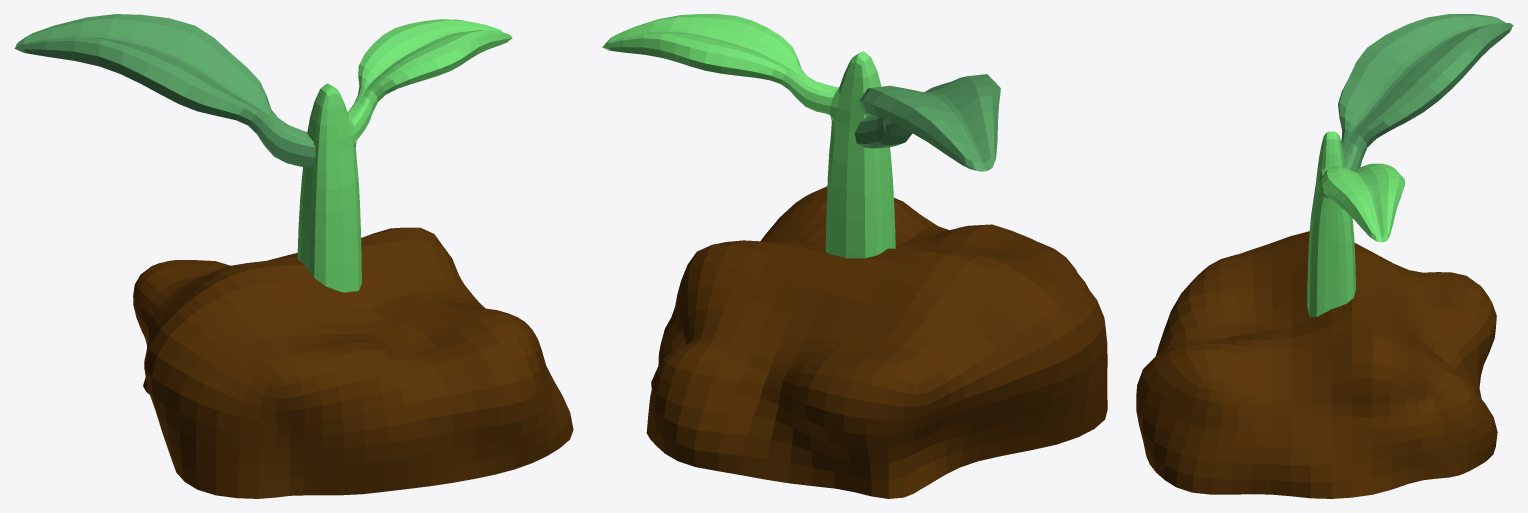
Rendered from Sprout.fbx.
3 renders of one model, left to right at view 1: azimuth 30°, elevation 25°; view 2: azimuth 150°, elevation 25°; view 3: azimuth 270°, elevation 25°, orthographic. The views are drawn at different scales.
Parts seen in each view (by area): view 1: Cube.005; view 2: Cube.005; view 3: Cube.005.
Boxes of the visible parts, <box> form: Cube.005: <box>14,14,573,498</box>; Cube.005: <box>602,14,1107,498</box>; Cube.005: <box>1136,14,1513,498</box>.
Bounding box in the file's own units: 47.35 × 39.38 × 41.01.
